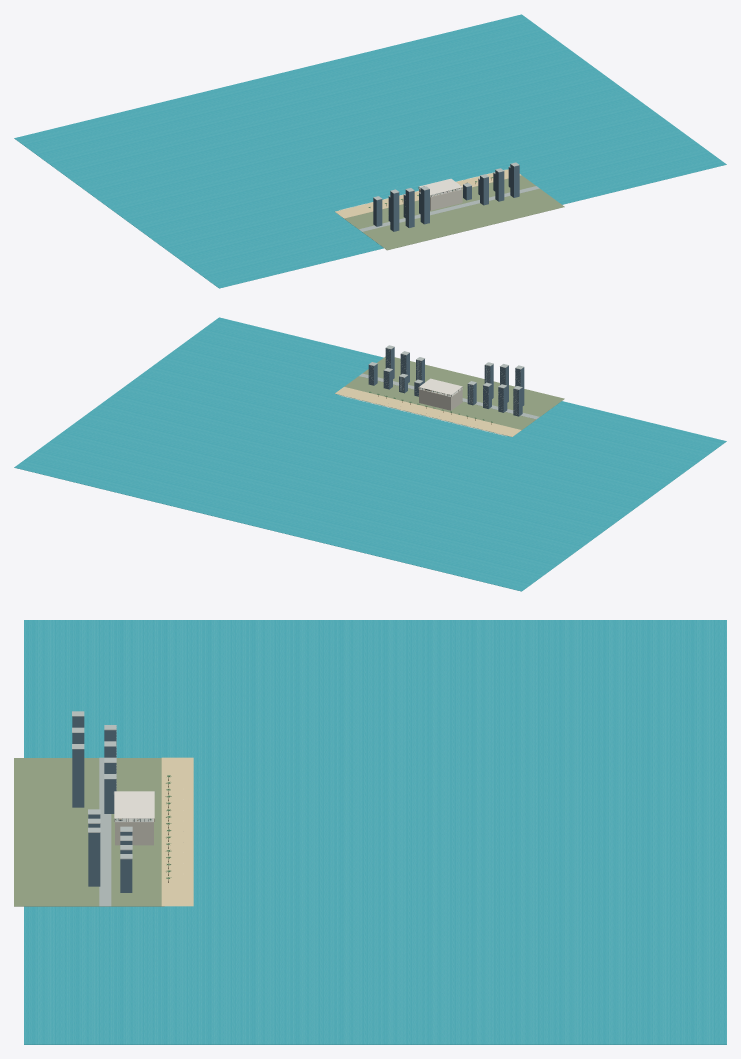
Rendered from coastal-headquarters-gameplay.glb.
3 views of the same model, one above another, from view 1: azimuth 30°, elevation 25°; view 2: azimuth 150°, elevation 25°; view 3: azimuth 270°, elevation 25° (orthographic). The views are drawn at different scales.
Parts seen in each view (by area): view 1: Turquoise_Ocean, Coastal_Context, Sunshine_Sandy_Beach; view 2: Turquoise_Ocean, Coastal_Context, Sunshine_Sandy_Beach; view 3: Turquoise_Ocean, Coastal_Context, Sunshine_Sandy_Beach, Ceiling_Optional.
Boxes of the visible parts, x1,y1,x2,y2 form: Turquoise_Ocean: [14, 14, 726, 288]; Coastal_Context: [339, 162, 564, 250]; Sunshine_Sandy_Beach: [335, 169, 521, 218]; Turquoise_Ocean: [14, 317, 726, 591]; Coastal_Context: [339, 345, 564, 436]; Sunshine_Sandy_Beach: [335, 387, 521, 436]; Turquoise_Ocean: [24, 620, 726, 1044]; Coastal_Context: [14, 711, 164, 906]; Sunshine_Sandy_Beach: [161, 757, 193, 906]; Ceiling_Optional: [114, 791, 154, 818].
Size of the model in its own units: 1000 by 73.25 by 710.
Materials: 54 (20 with a texture image).
